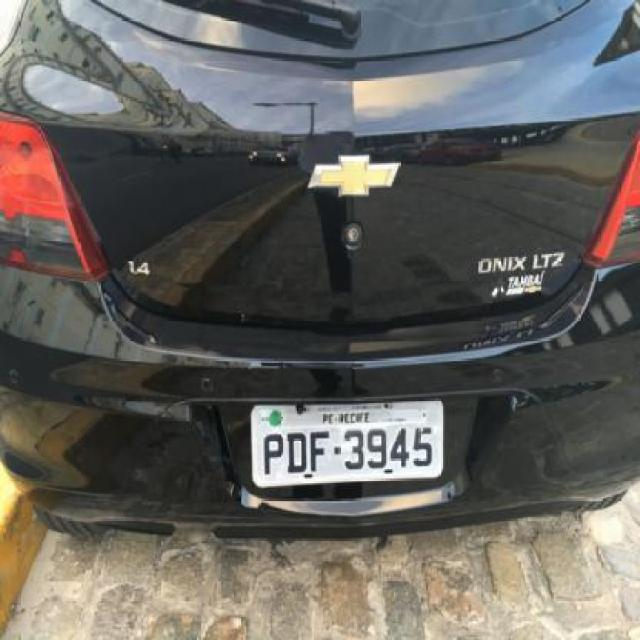old_plate: (244, 400, 453, 492)
